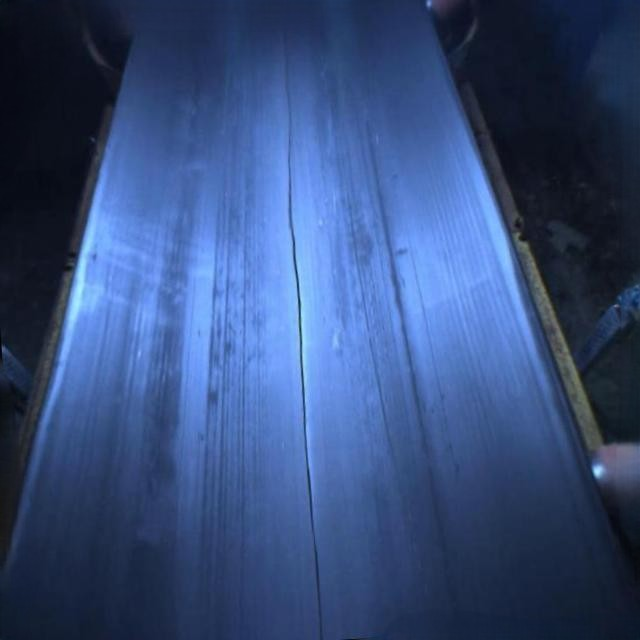Tear: (276, 16, 330, 640)
